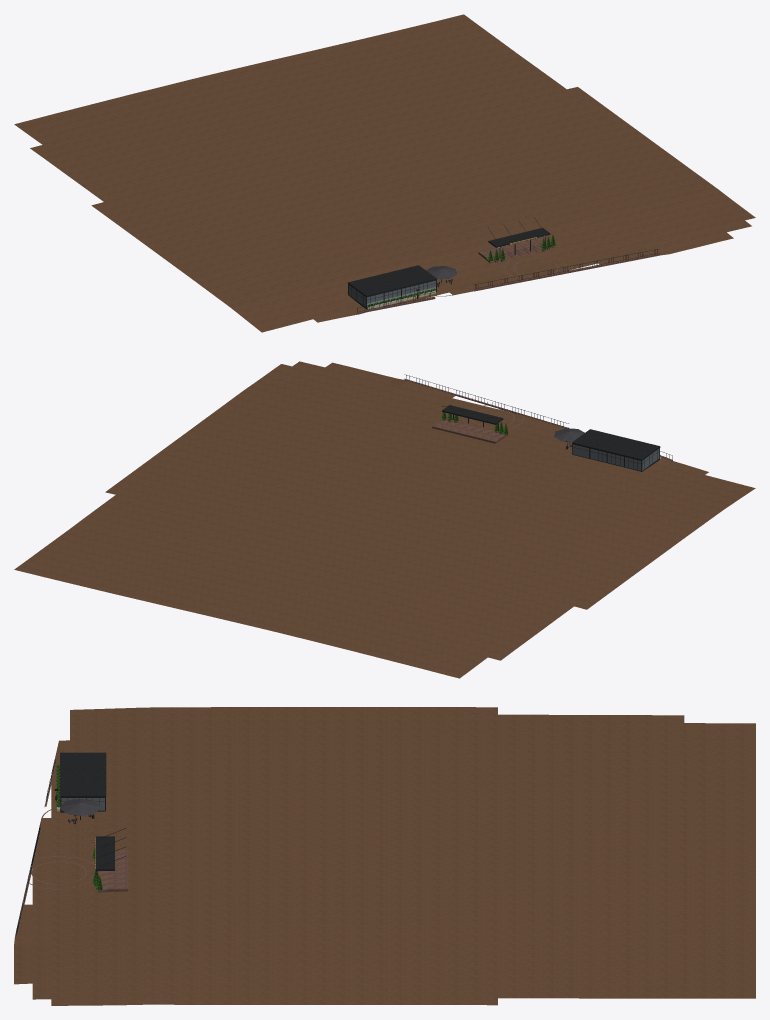
File: hotel_plazoleta.glb
The picture shows the model from 3 angles, top to bottom: view 1: azimuth 30°, elevation 25°; view 2: azimuth 150°, elevation 25°; view 3: azimuth 270°, elevation 25°; orthographic projection. The views are drawn at different scales.
Parts seen in each view (by area): view 1: Hotel_Plazoleta; view 2: Hotel_Plazoleta; view 3: Hotel_Plazoleta.
Part boxes in pixels (bbox=[...]): Hotel_Plazoleta: bbox=[14, 14, 755, 332]; Hotel_Plazoleta: bbox=[14, 361, 755, 678]; Hotel_Plazoleta: bbox=[14, 707, 755, 1005].
Size of the model in its own units: 132 by 7.17 by 140.
Materials: 11 (8 with a texture image).
